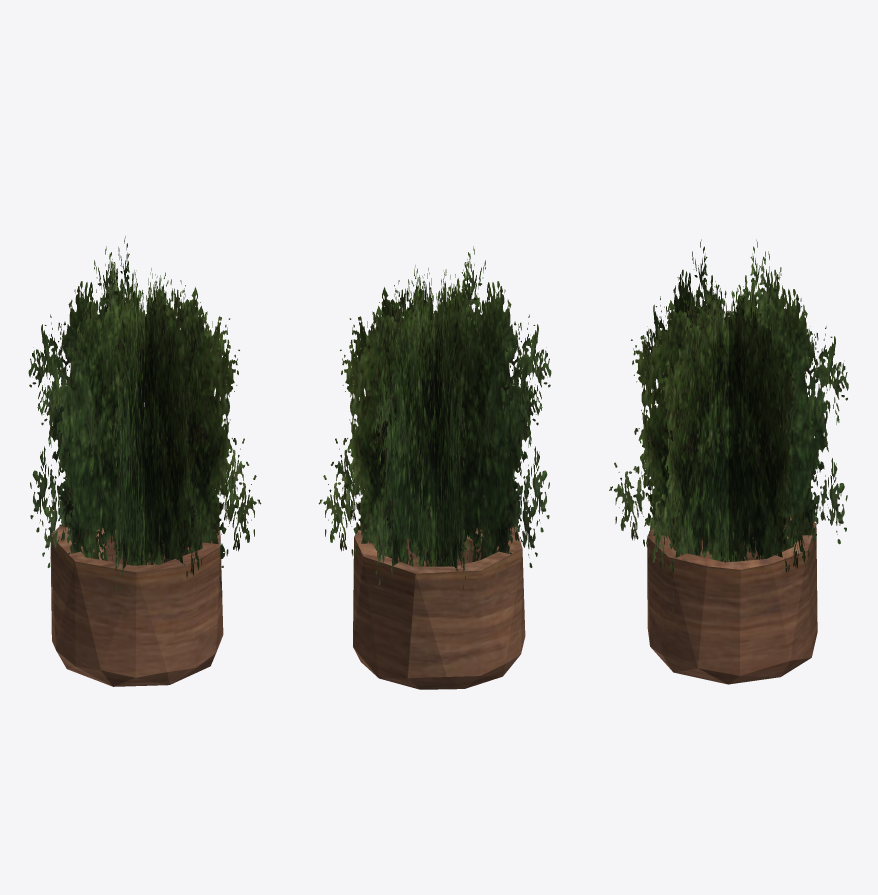
File: PLANT_04.fbx
3 renders of one model, left to right at view 1: azimuth 30°, elevation 25°; view 2: azimuth 150°, elevation 25°; view 3: azimuth 270°, elevation 25°, orthographic.
Visible parts, largest first — view 1: PLANT_04; view 2: PLANT_04; view 3: PLANT_04.
Part boxes in pixels (x1,y1,x2,y2): PLANT_04: [28, 236, 261, 686]; PLANT_04: [318, 246, 551, 689]; PLANT_04: [609, 239, 848, 684].
Bounding box in the file's own units: 70.69 × 218 × 70.69.
